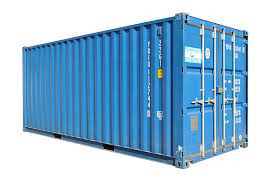container_door: (181, 9, 250, 169)
